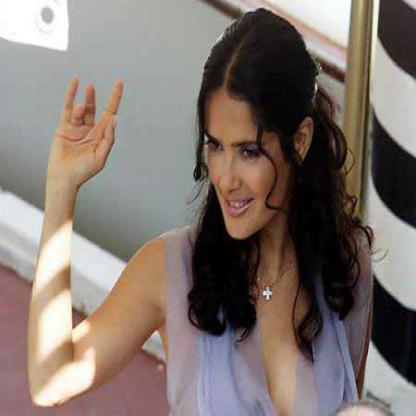face: (203, 42, 298, 247)
